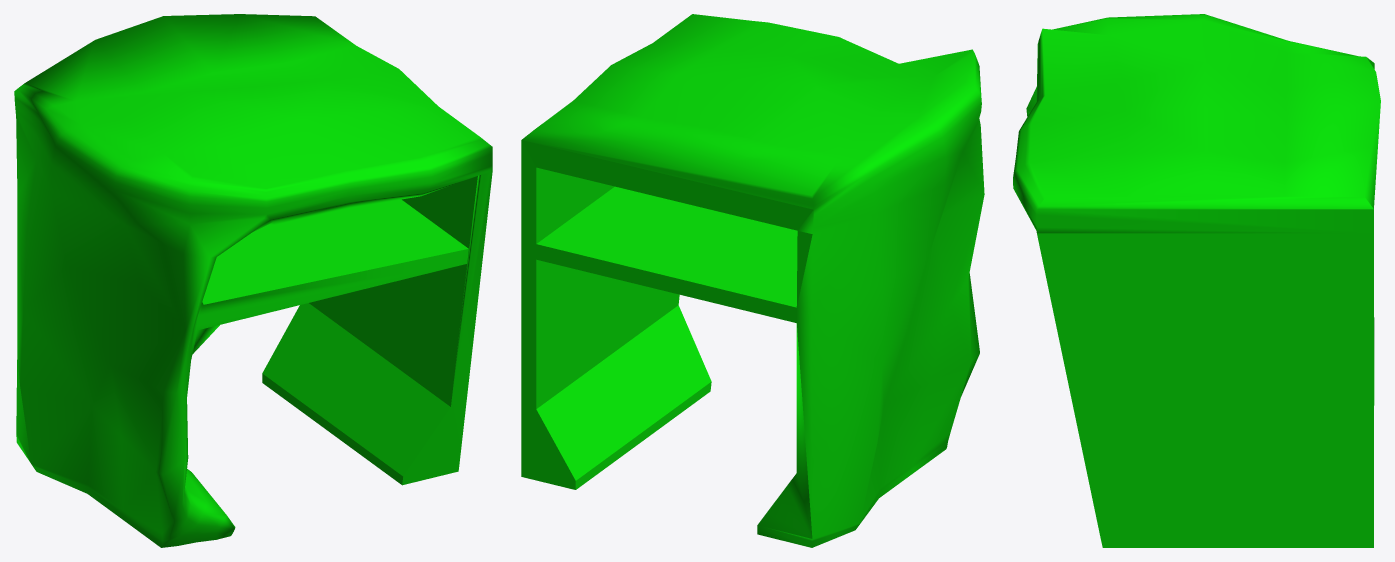
Rendered from AntagNightstandB.fbx.
3 renders of one model, left to right at view 1: azimuth 30°, elevation 25°; view 2: azimuth 150°, elevation 25°; view 3: azimuth 270°, elevation 25°, orthographic. The views are drawn at different scales.
Parts seen in each view (by area): view 1: AntagNightstandB; view 2: AntagNightstandB; view 3: AntagNightstandB.
Boxes of the visible parts, x1,y1,x2,y2 form: AntagNightstandB: (14,14,492,547); AntagNightstandB: (521,14,984,547); AntagNightstandB: (1013,14,1380,547).
Size of the model in its own units: 96.13 by 103 by 89.39.
